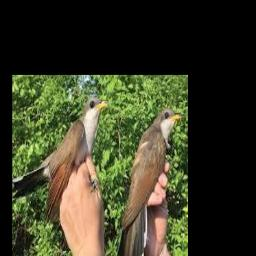Cuckoo: (12, 97, 108, 225), (117, 108, 181, 256)
